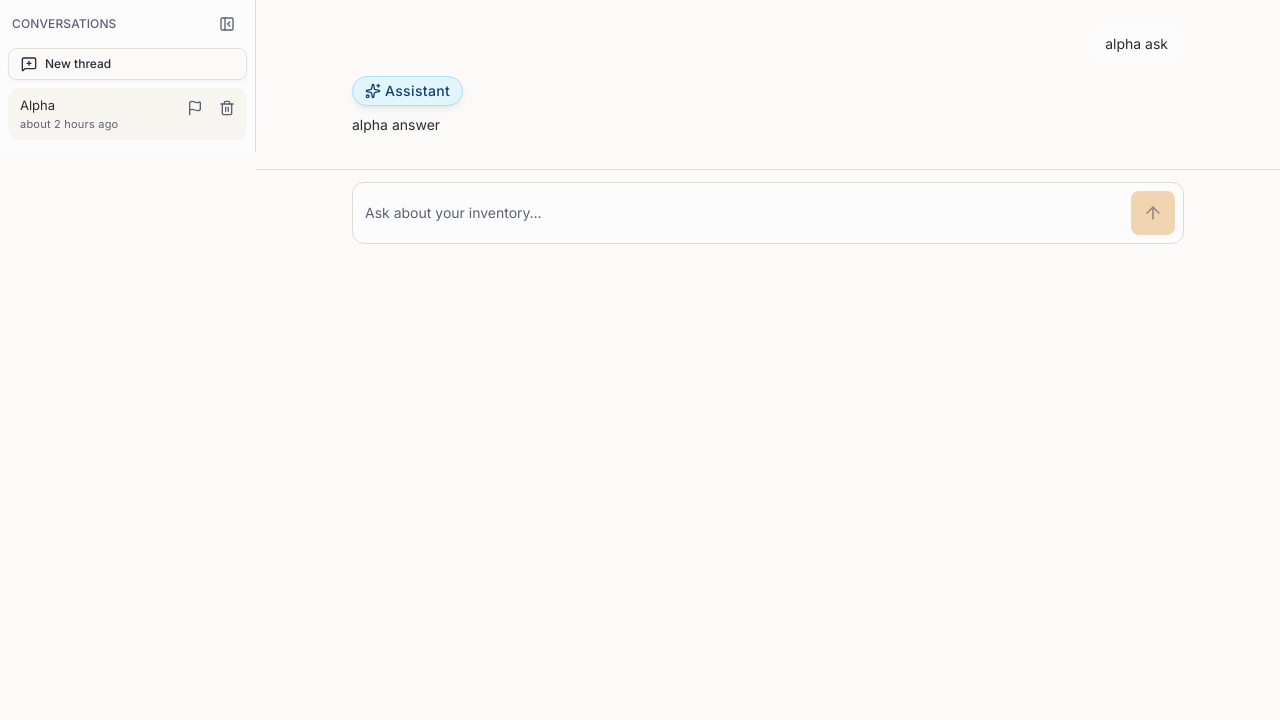
AssistantPage — deleting the OPEN thread resets to a blank composer › delete of the open thread lands on the empty state
Expected: the text "alpha ask" is shown, [1105,35,1168,52]
Click the button with test id "thread-delete-t1": coordinates (227, 108) [211,92,243,124]
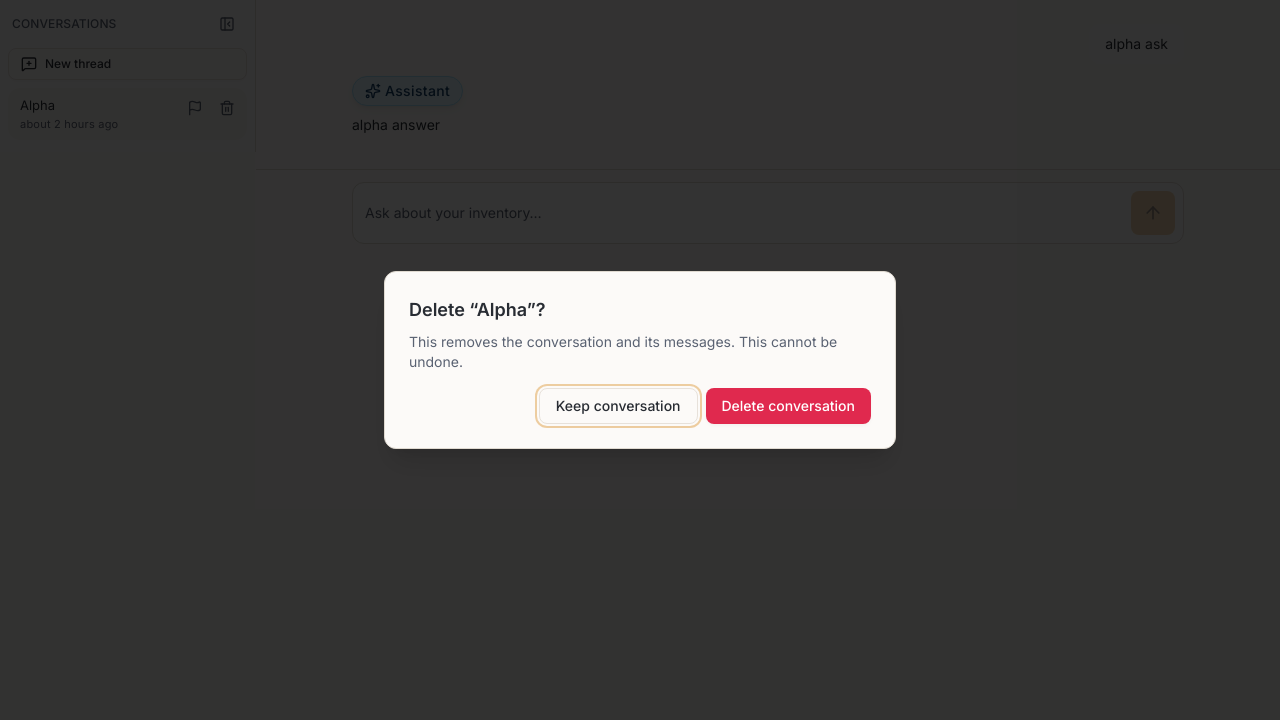
Click the button "Delete conversation": coordinates (788, 406) [706,388,871,424]
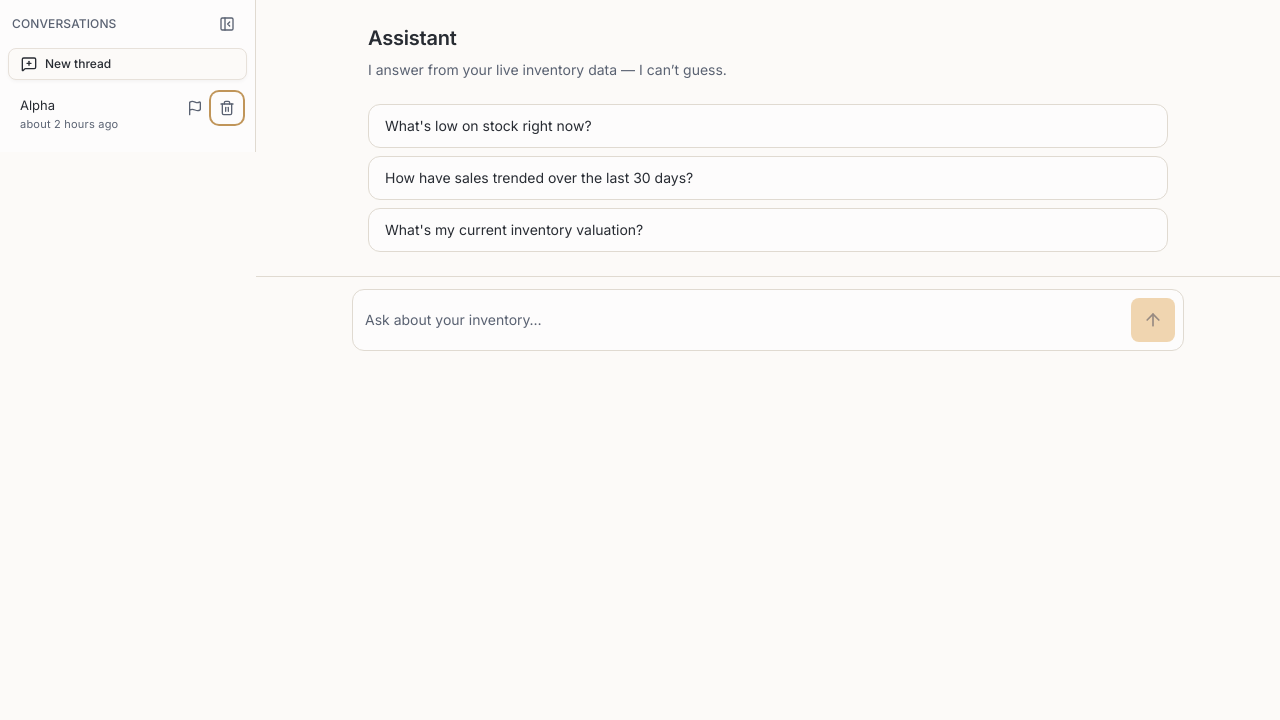
Expected: the text "I answer from your live inventory data — I can’t guess." is shown, [368,61,727,78]
Expected: the text "alpha ask" is gone
